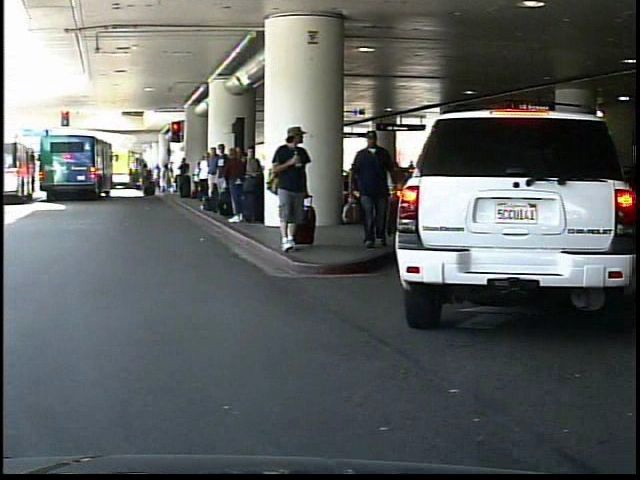person: (350, 127, 402, 249), (271, 123, 317, 251)
